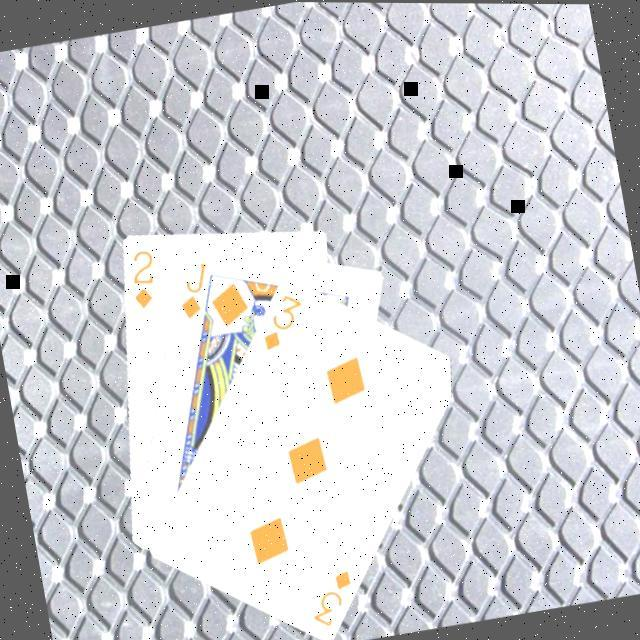2D: (121, 246, 162, 314)
3D: (250, 288, 311, 356), (300, 565, 360, 633)
JD: (168, 258, 218, 324)
